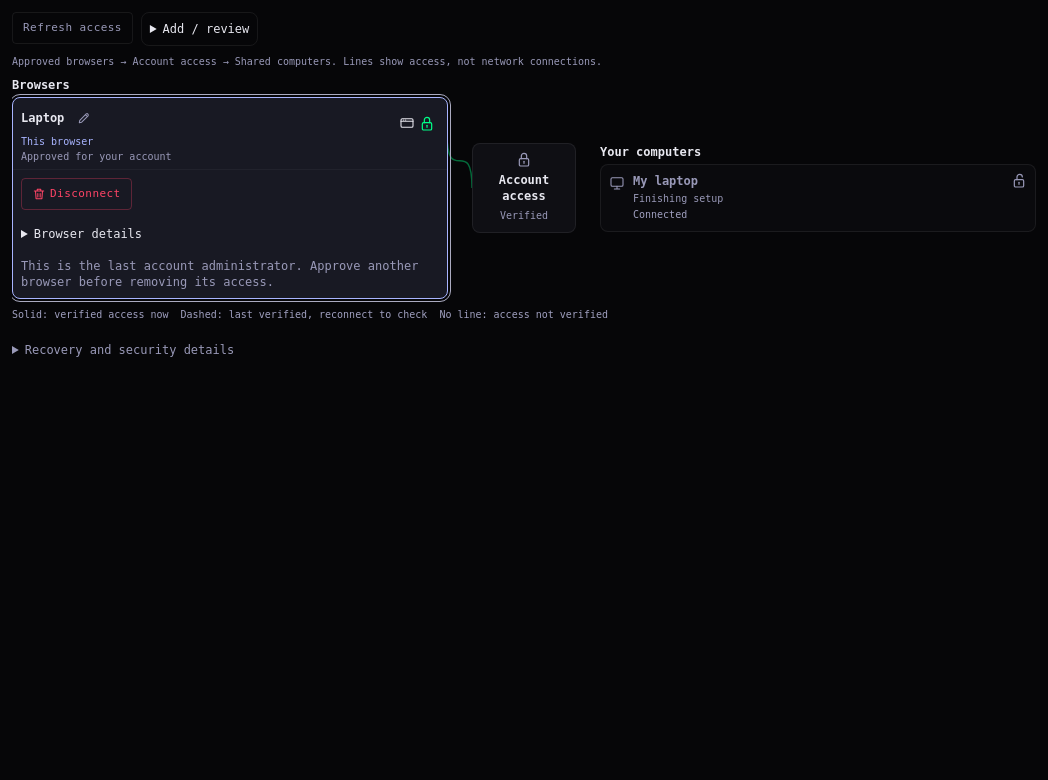
it: Account devices › offers setup guidance only after an independent result and refresh advice after verification failure
The width and height of the screenshot is (1048, 780).
expect the text "Finishing setup" is shown: met, box [633,193,723,204]
Click the button with aria-label "Computer My laptop:" at (666, 181), box [601,165,1035,231]
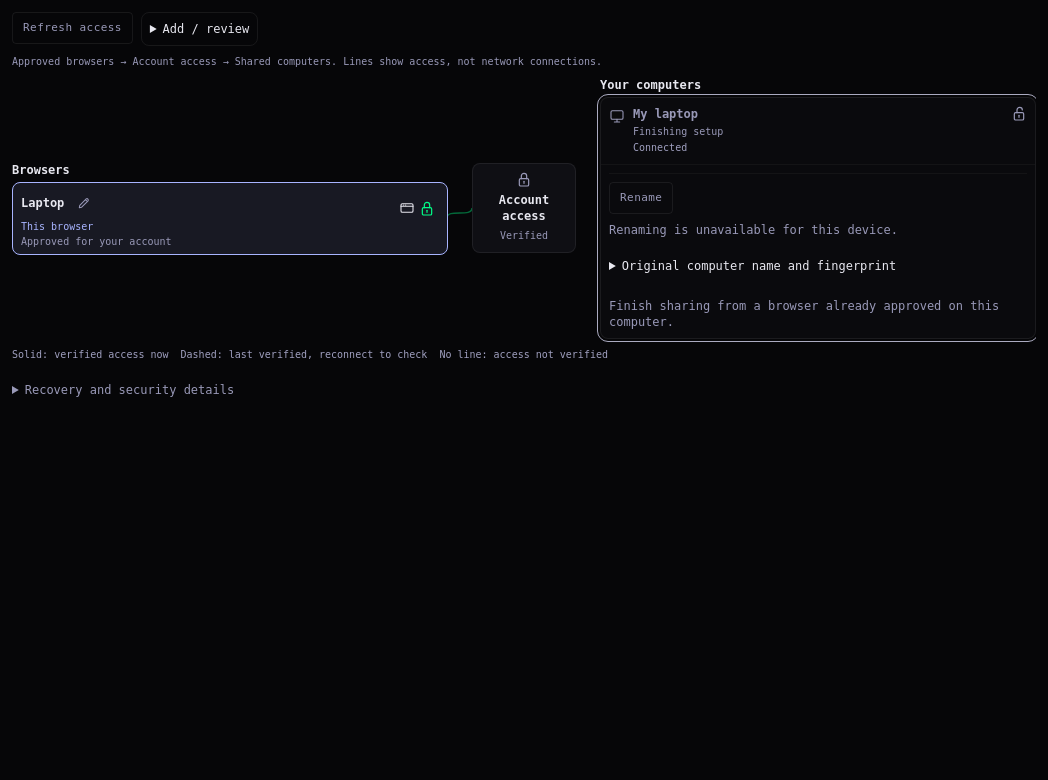
expect the text "Finish sharing from a browser already approved" is shown: met, box [609,299,999,329]
Click the button "Refresh access" at (72, 28), box [12,12,133,44]
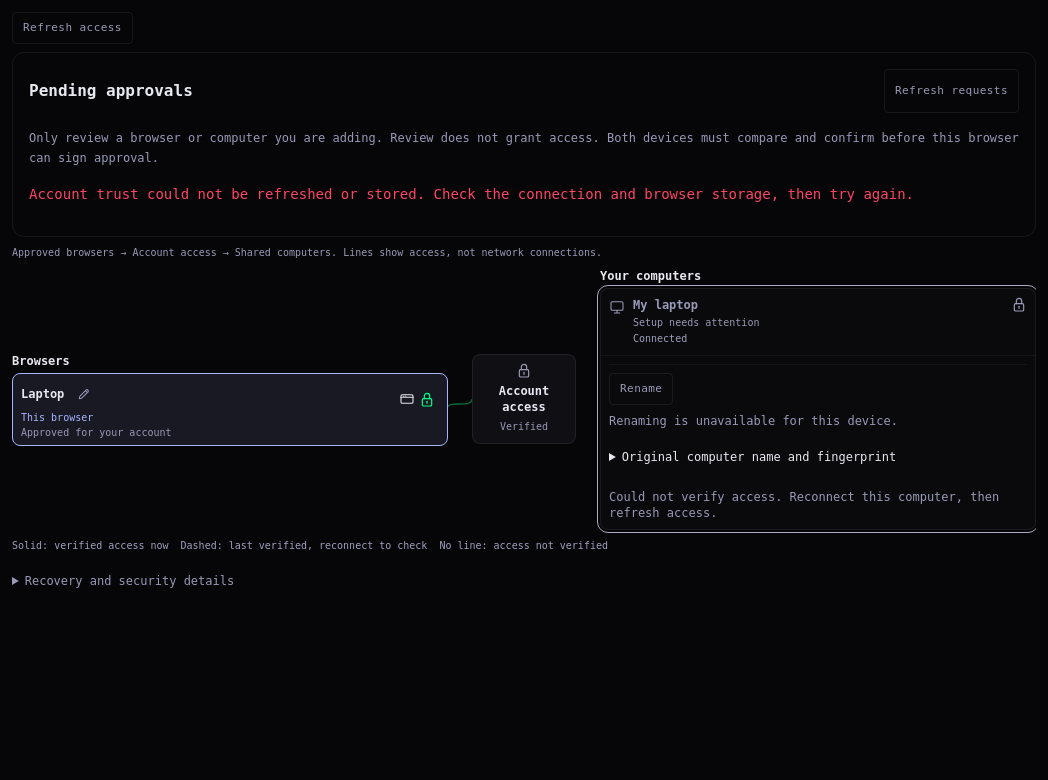
expect the text "Setup needs attention" is shown: met, box [633,317,759,328]
expect the text "Could not verify access. Reconnect this computer, then refresh access." is shown: met, box [609,489,1027,521]
expect the text "Finish sharing from a browser" is gone: met
